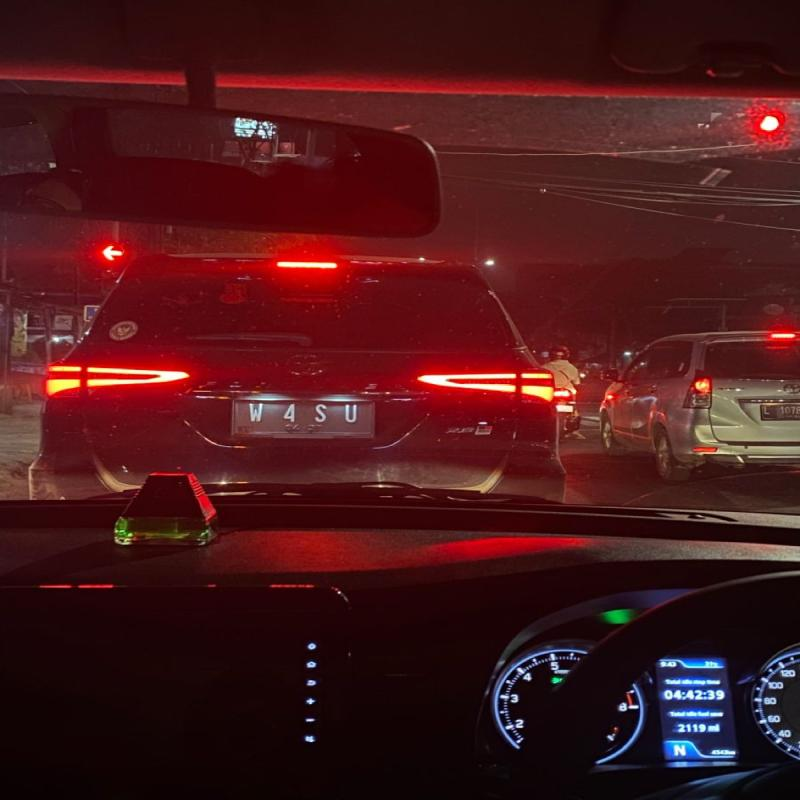license plate on a car: (234, 393, 388, 434), (746, 391, 800, 425)
